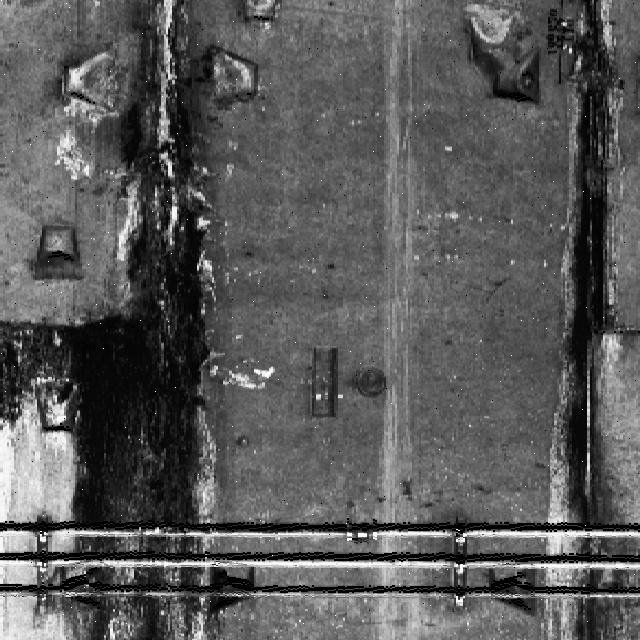leakage: (1, 0, 230, 639), (527, 0, 637, 636)
